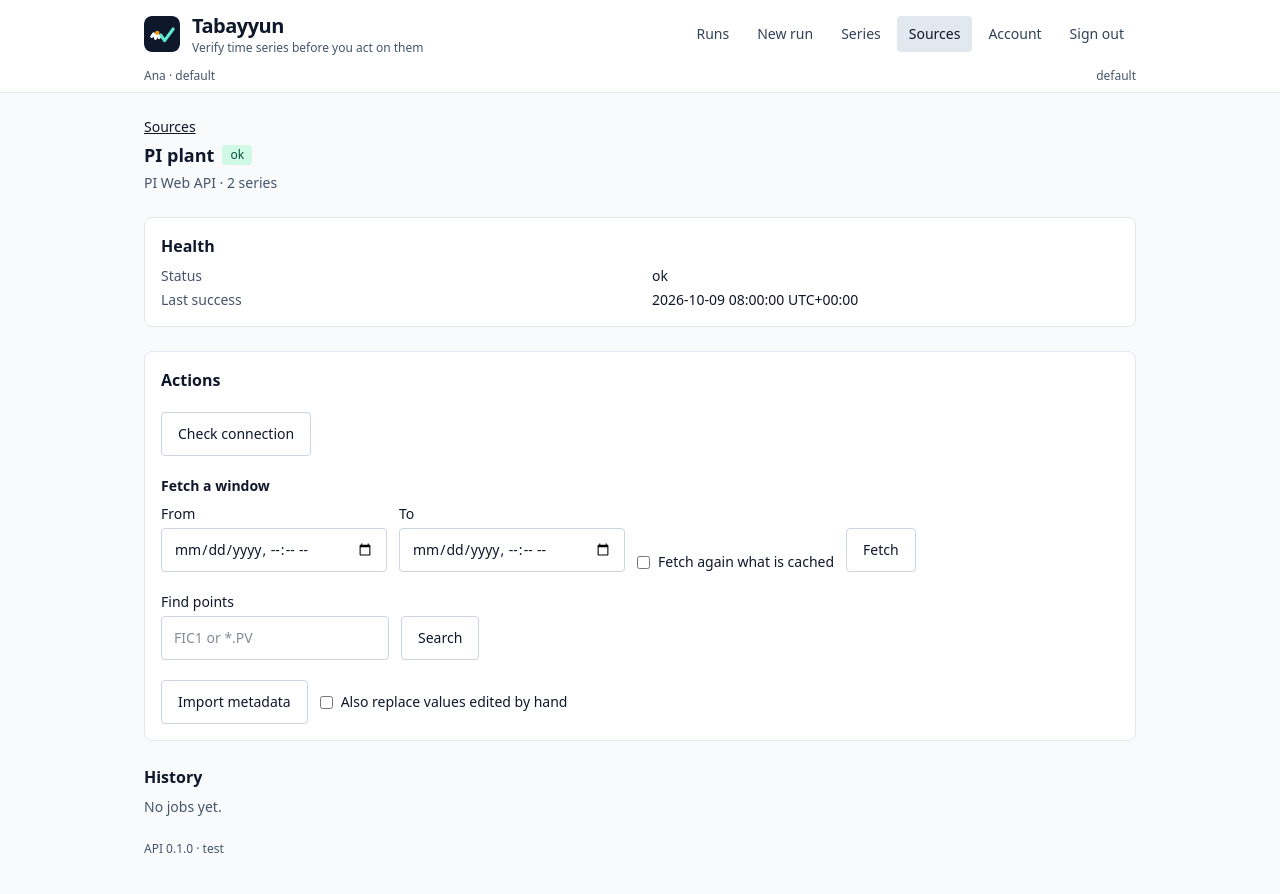
it: SourceDetail › shows a metadata import's result
Click the checkbox labelled "Also replace values edited by hand" at (326, 702), box x1=320 y1=696 x2=333 y2=708
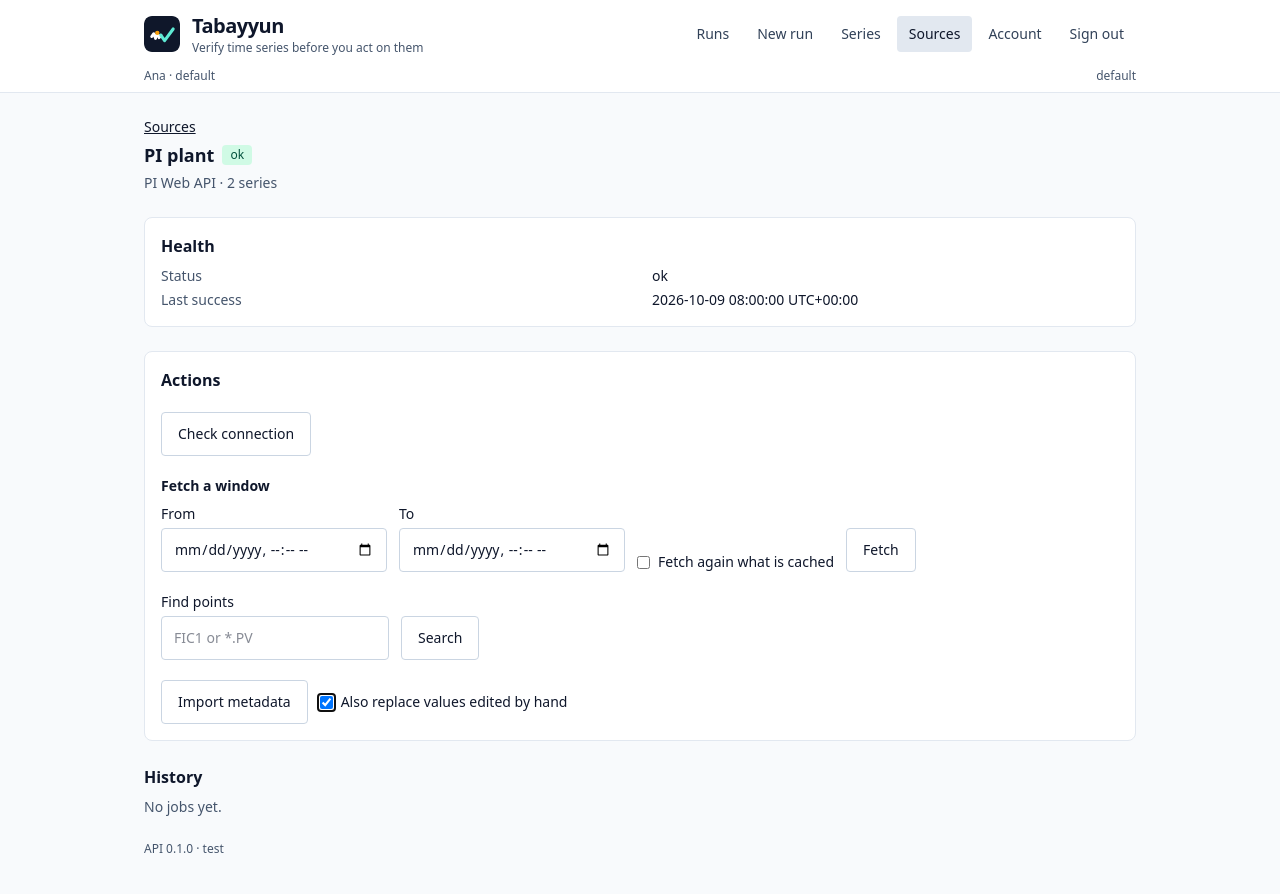
Click the button "Import metadata" at (234, 702), box x1=161 y1=680 x2=308 y2=724
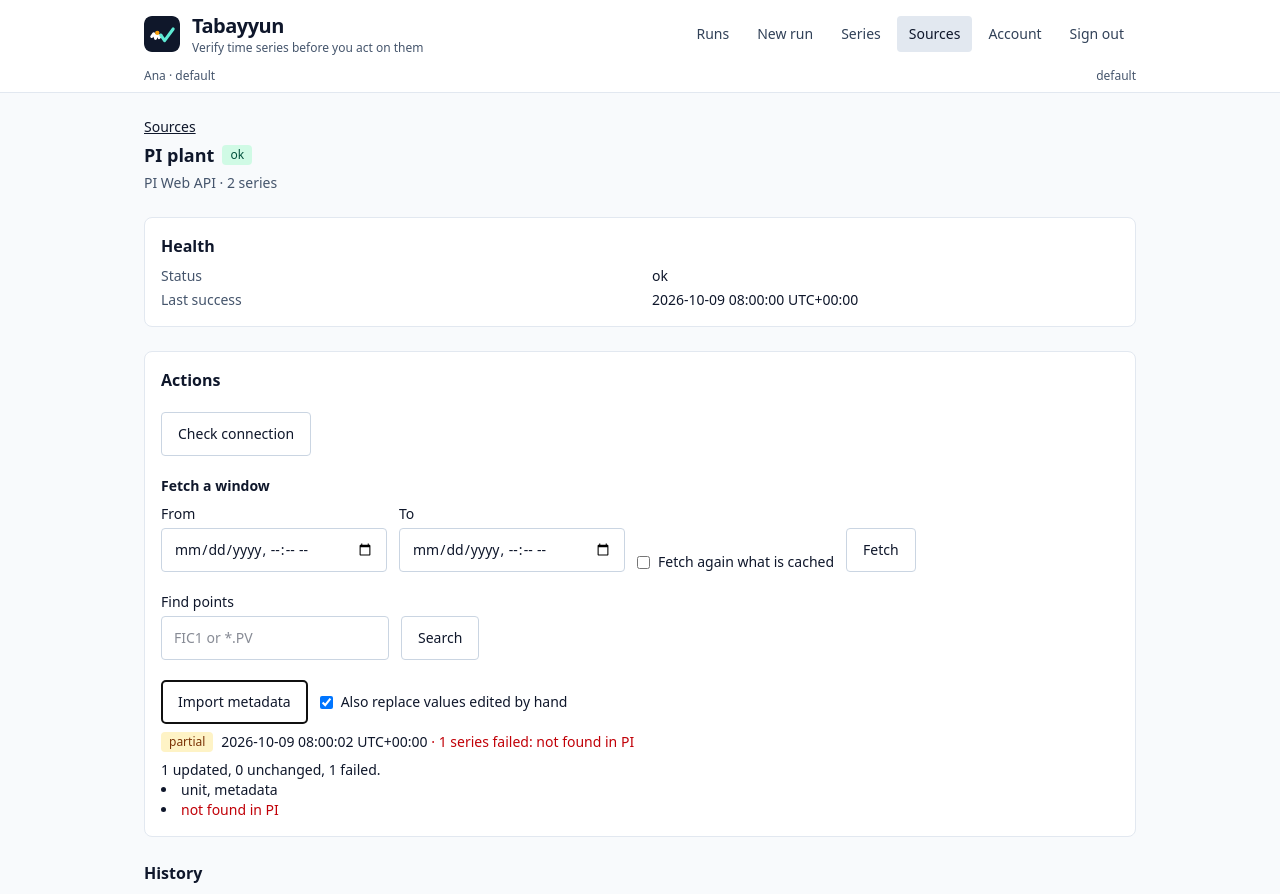
Expected: the text "1 updated, 0 unchanged, 1 failed." is shown, x1=161 y1=760 x2=380 y2=779
Expected: the list item "unit, metadata" is shown, x1=181 y1=780 x2=278 y2=799
